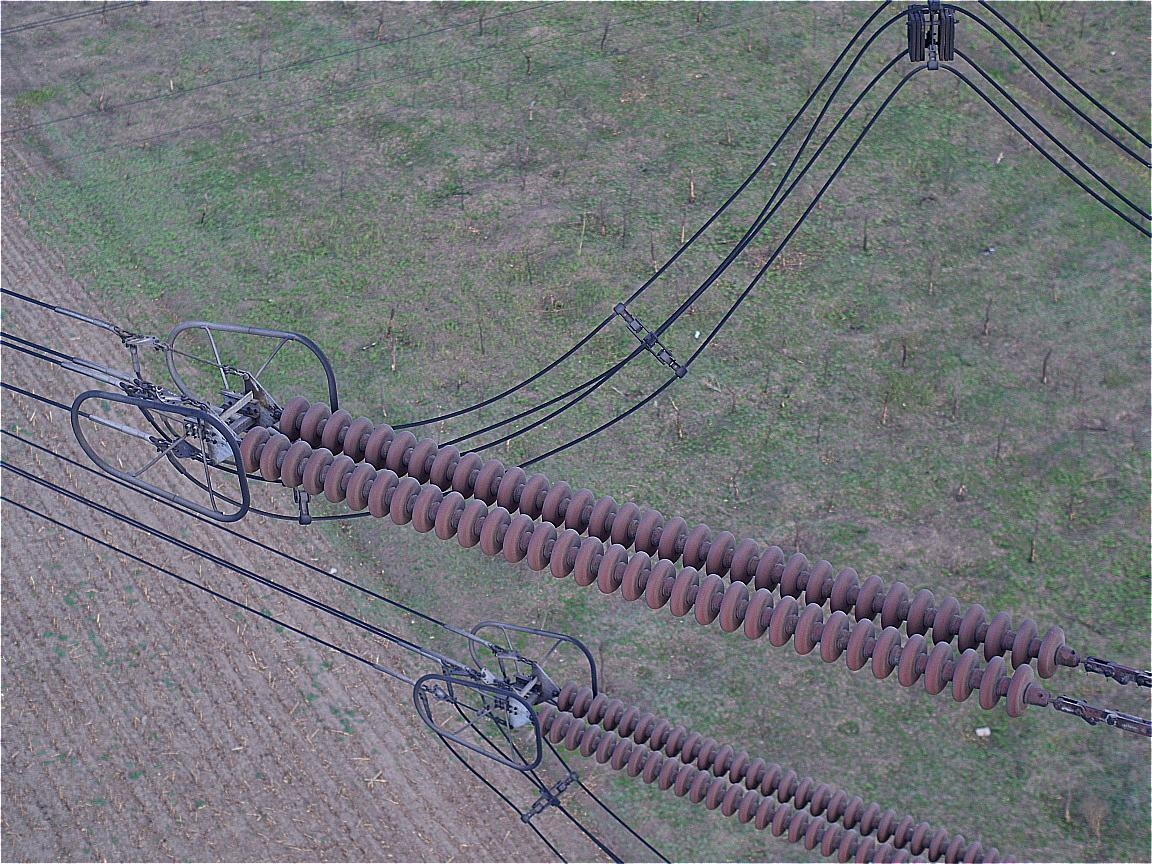insultor1: (239, 395, 1066, 719)
